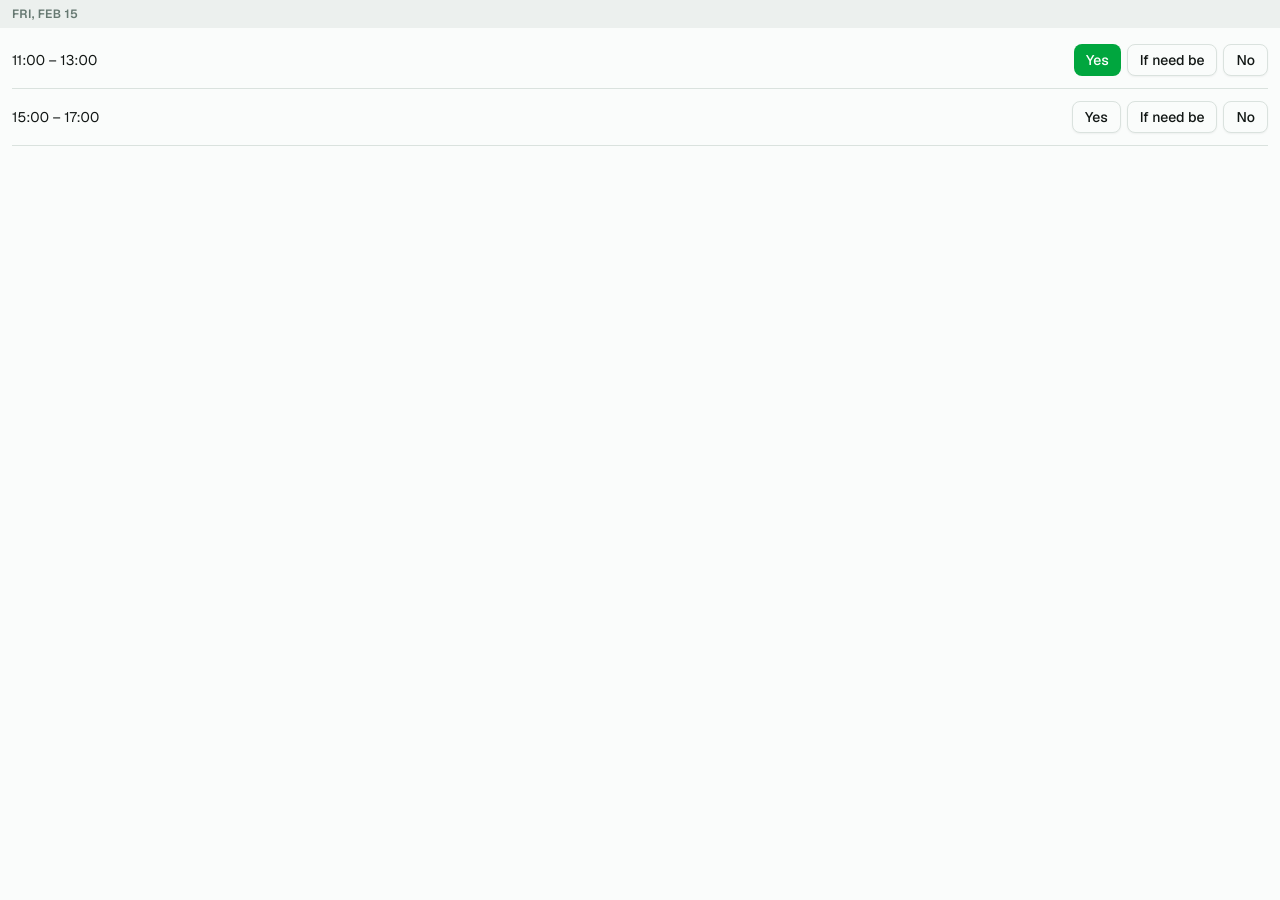
Test case: AvailabilityForm – warn mode › shows inline warning on assigned slot when changed to no
# Change slot-1 from yes to no
Click the button "No" in the row of "13:00" at (1246, 60), box [1224,44,1268,76]
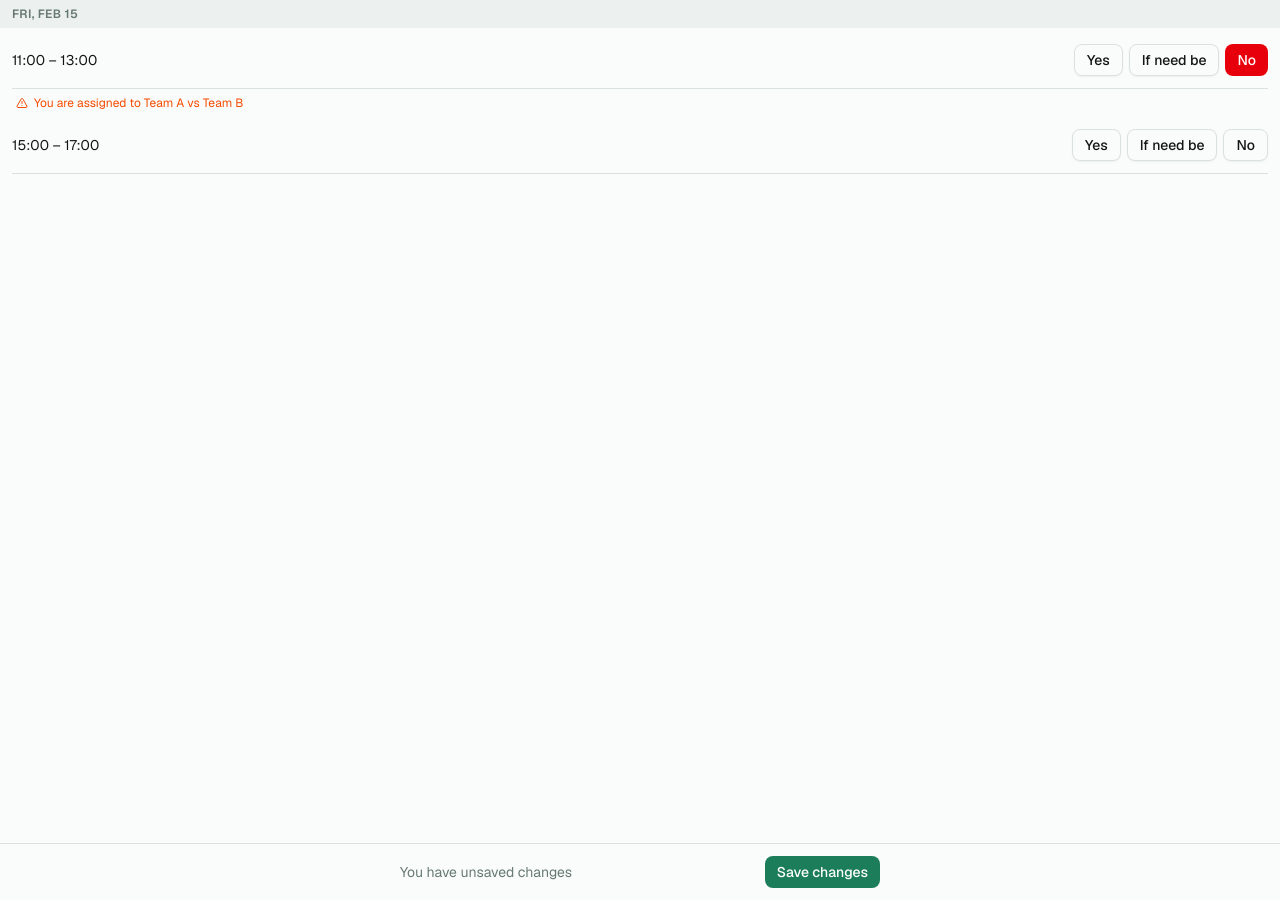
Expected: the text "You are assigned to Team A vs Team B" is shown, [34,95,243,111]
